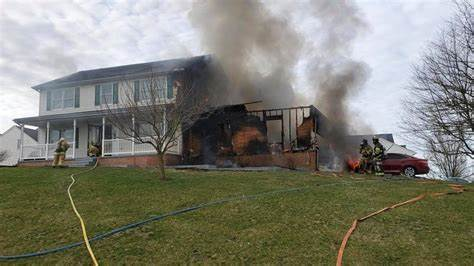smoke: (211, 5, 291, 94), (315, 22, 359, 125)
